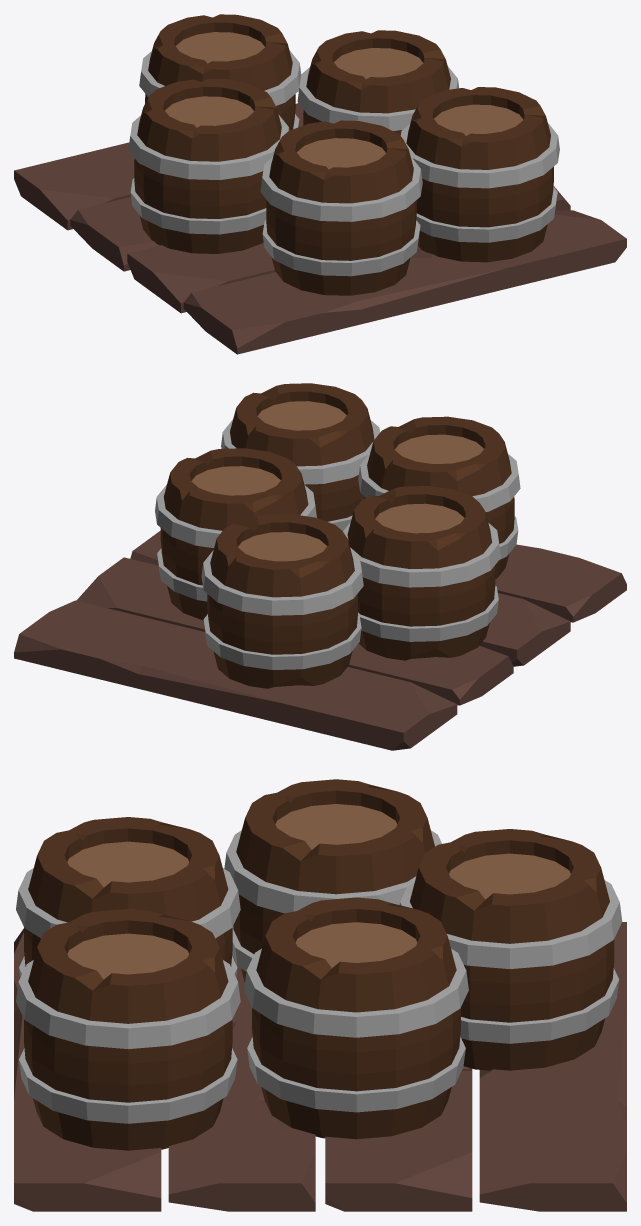
File: LowBarrelBoxes.fbx
3 views of the same model, one above another, from view 1: azimuth 30°, elevation 25°; view 2: azimuth 150°, elevation 25°; view 3: azimuth 270°, elevation 25° (orthographic). The views are drawn at different scales.
Visible parts, largest first — view 1: Barrels, WoodenBox; view 2: Barrels, WoodenBox; view 3: Barrels, WoodenBox.
Boxes of the visible parts, x1,y1,x2,y2 form: Barrels: [128, 14, 559, 295]; WoodenBox: [14, 103, 626, 354]; Barrels: [155, 383, 520, 688]; WoodenBox: [14, 530, 626, 750]; Barrels: [16, 779, 622, 1150]; WoodenBox: [14, 922, 626, 1211].
Size of the model in its own units: 203 by 69.98 by 202.
